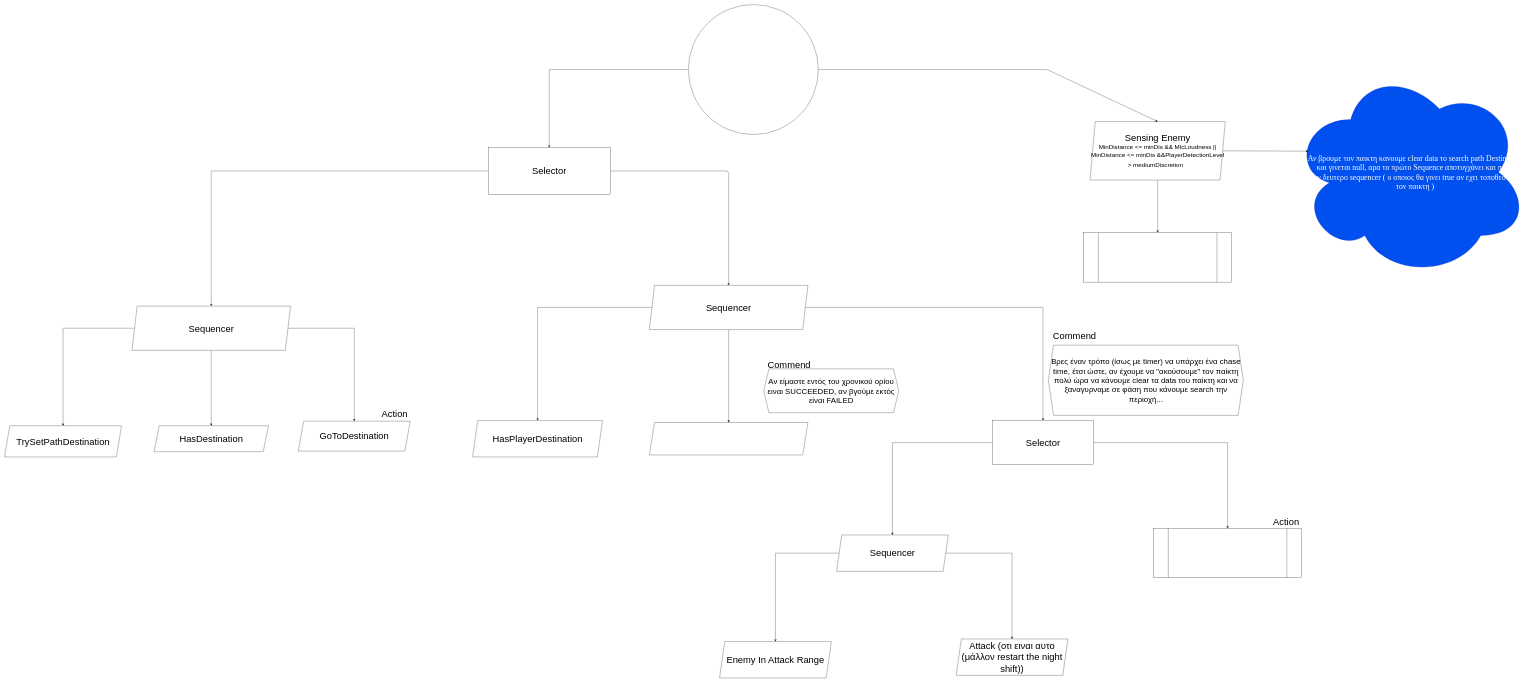
Image size: 1533x683. Some labels were removed from this diagram. Here are the shapes that lost their labels. From the top down, the box of each, then its label:
(688, 4, 818, 135): ROOT SELECTOR
(1083, 232, 1232, 282): SetTargetDestination
(649, 422, 808, 455): IsStillDetectable
(1153, 528, 1302, 578): Follow Target Position
